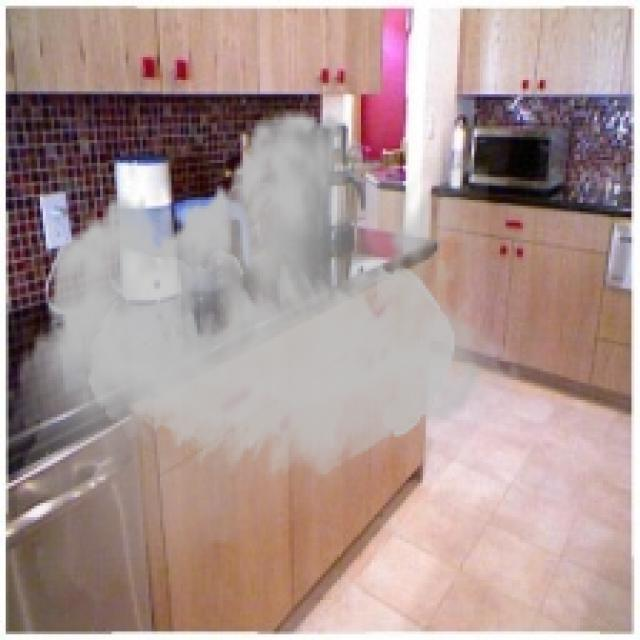Smoke: (6, 89, 523, 628)
